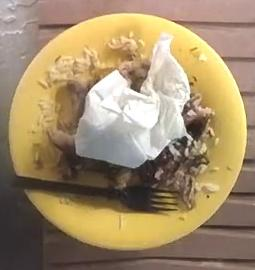rice: (45, 36, 143, 89)
rice_mix: (151, 94, 215, 209)
